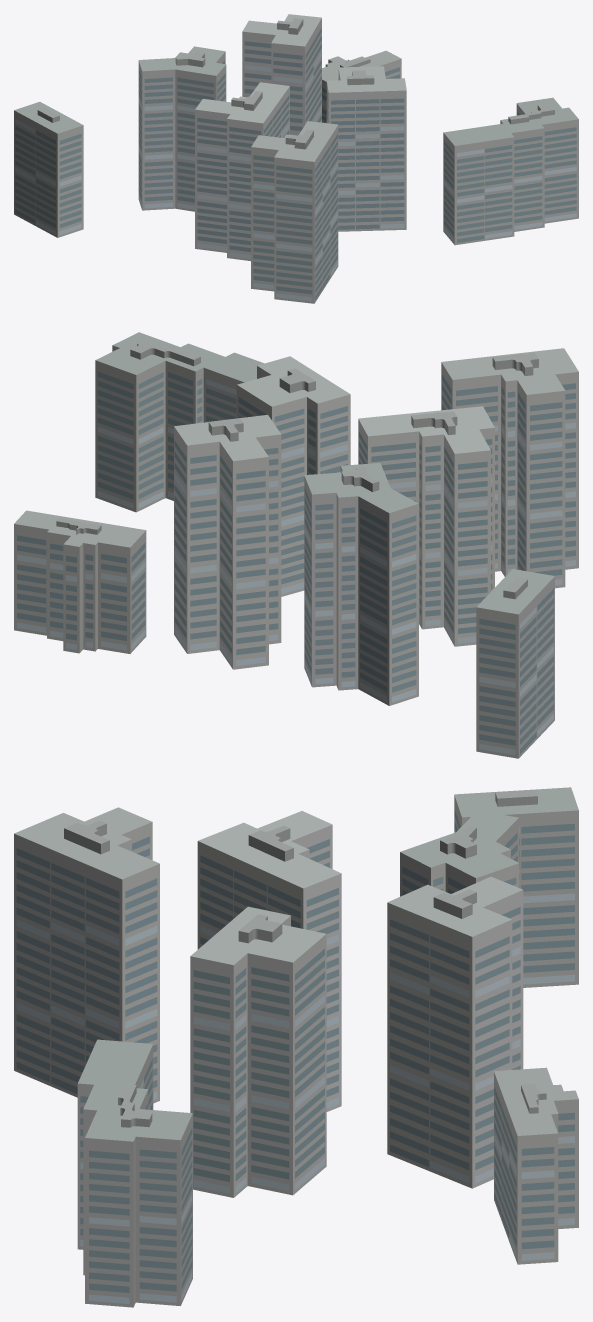
The model's file is apt-a13375906.glb.
3 views of the same model, one above another, from view 1: azimuth 30°, elevation 25°; view 2: azimuth 150°, elevation 25°; view 3: azimuth 270°, elevation 25° (orthographic). The views are drawn at different scales.
Parts seen in each view (by area): view 1: apt-a13375906; view 2: apt-a13375906; view 3: apt-a13375906.
Part boxes in pixels (box(x1,y1,x2,y2)): apt-a13375906: box(14, 14, 578, 303); apt-a13375906: box(14, 332, 578, 758); apt-a13375906: box(14, 787, 578, 1307).
Size of the model in its own units: 171 by 60.35 by 118.
